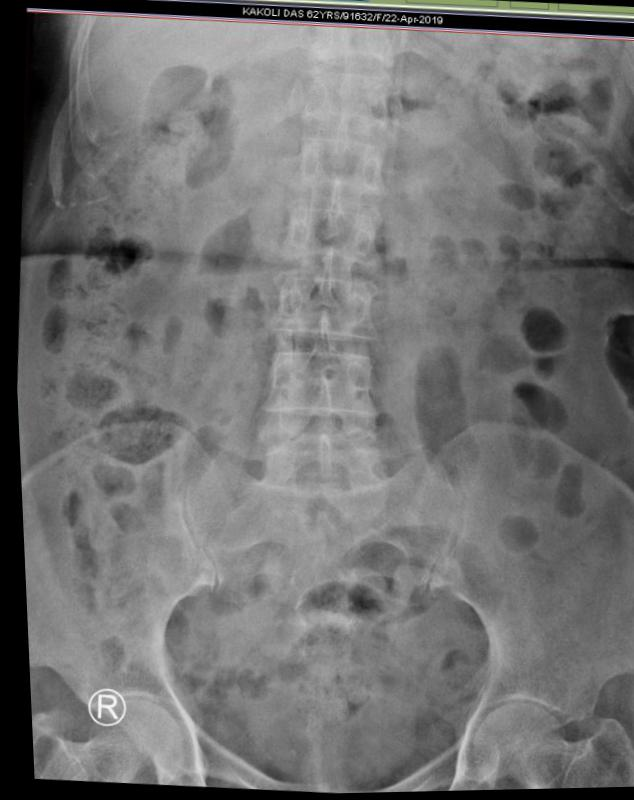vertebrae: (281, 131, 392, 206)
